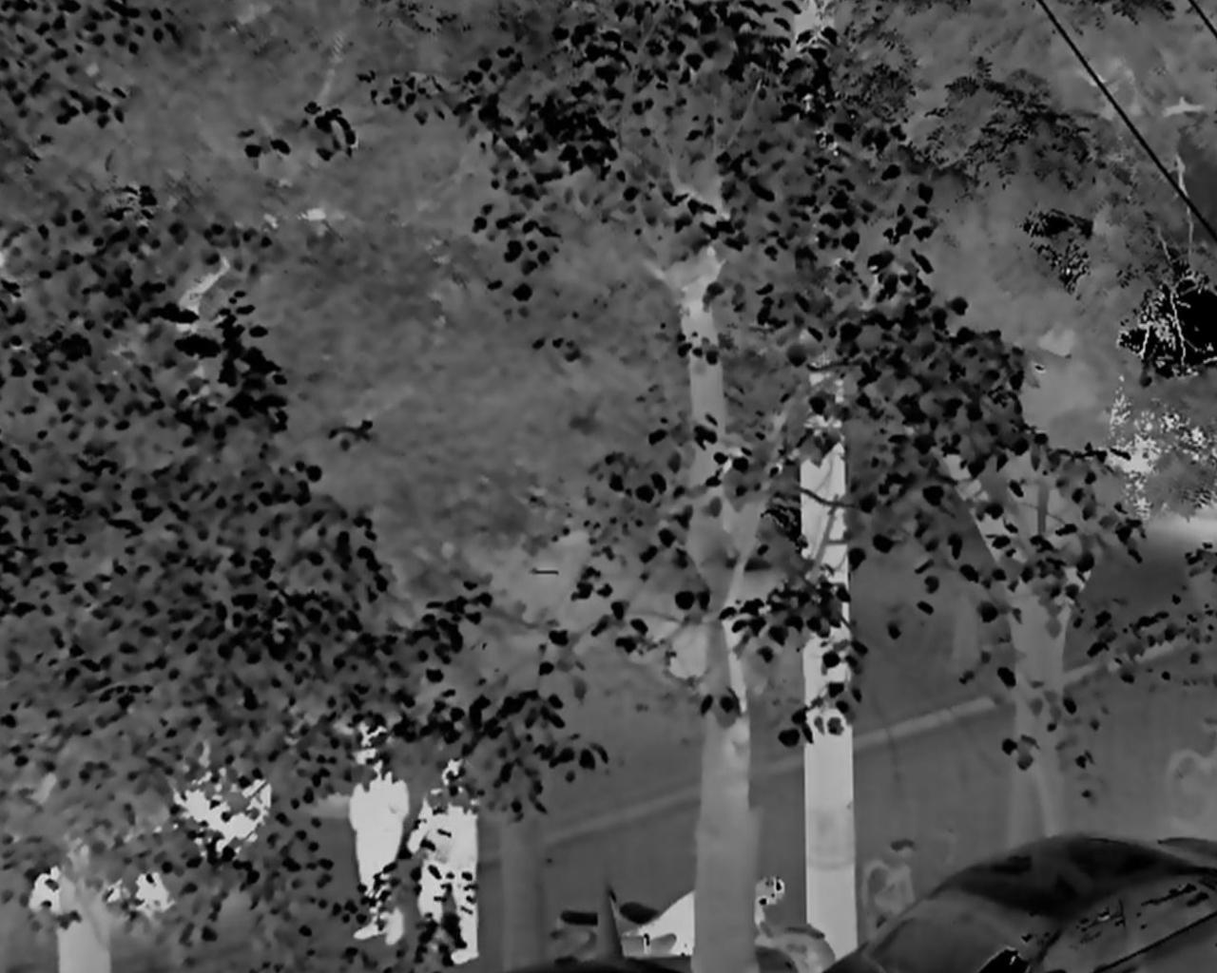person: (408, 757, 481, 964), (347, 754, 407, 944)
